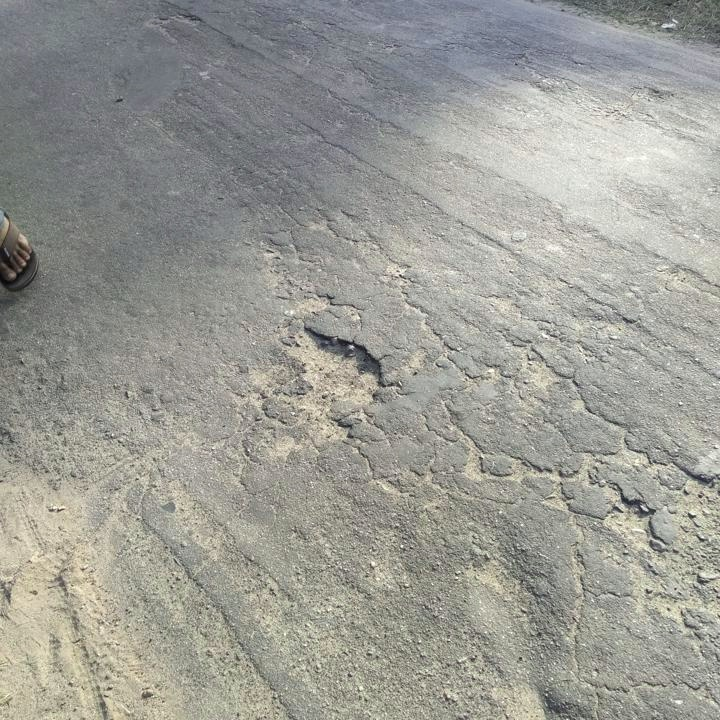pothole: (277, 322, 385, 434), (600, 496, 659, 552)
